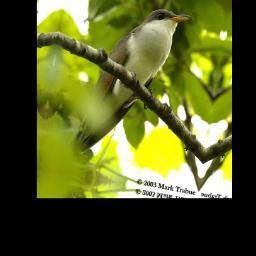Cuckoo: (66, 0, 194, 176)
